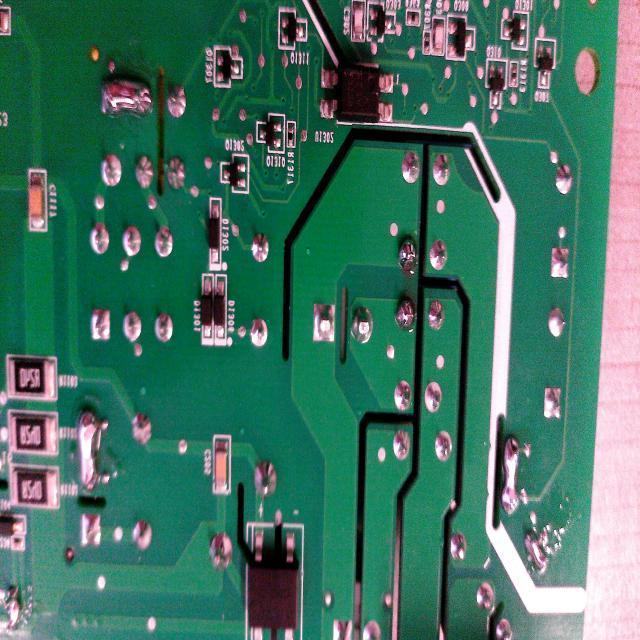Soldering shorted: (95, 75, 154, 125), (76, 405, 106, 489), (499, 428, 520, 514), (520, 526, 552, 580), (2, 574, 28, 632)
